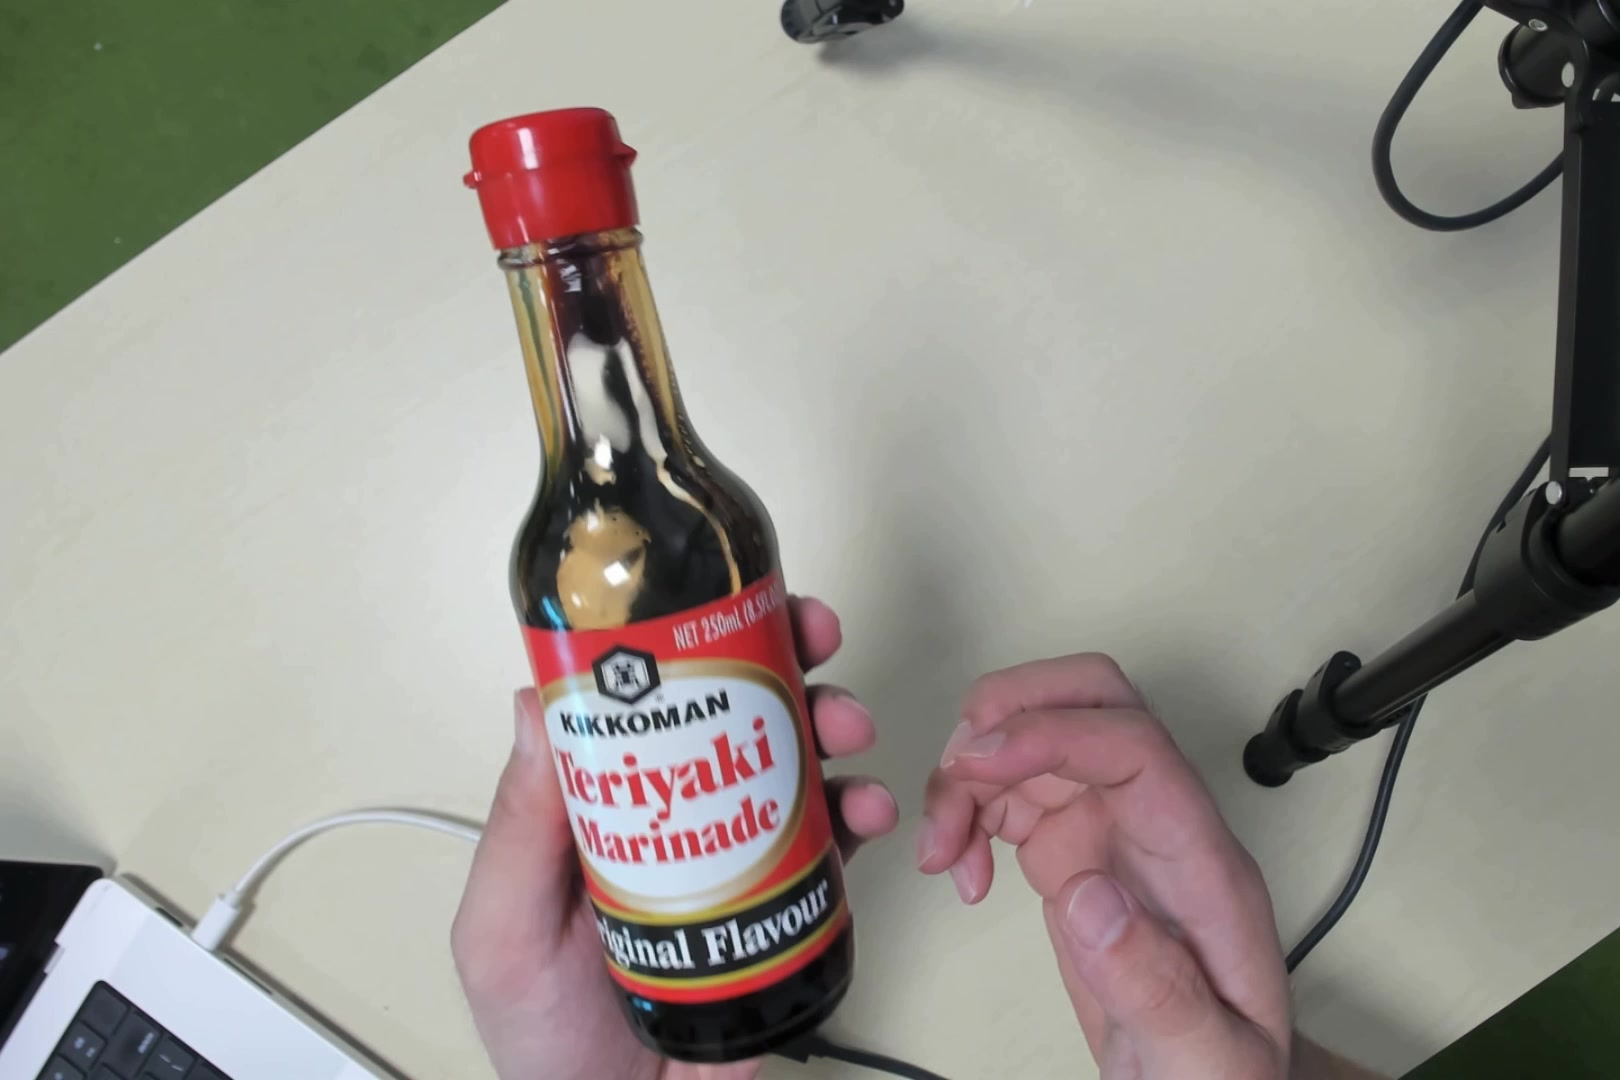OtherSauceDressingSoupbasePaste_200-299g_NonHalal_NonHealthy: (493, 108, 838, 1035)
